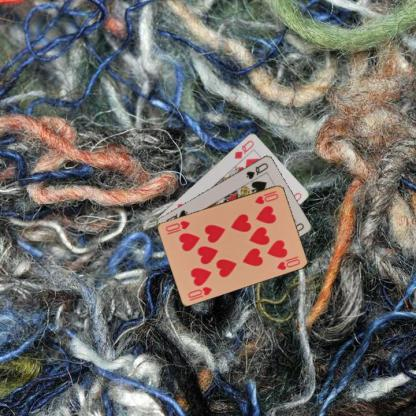10h: (252, 188, 280, 205), (186, 284, 213, 299)
Qd: (232, 138, 255, 160)
Qs: (243, 160, 269, 180)
